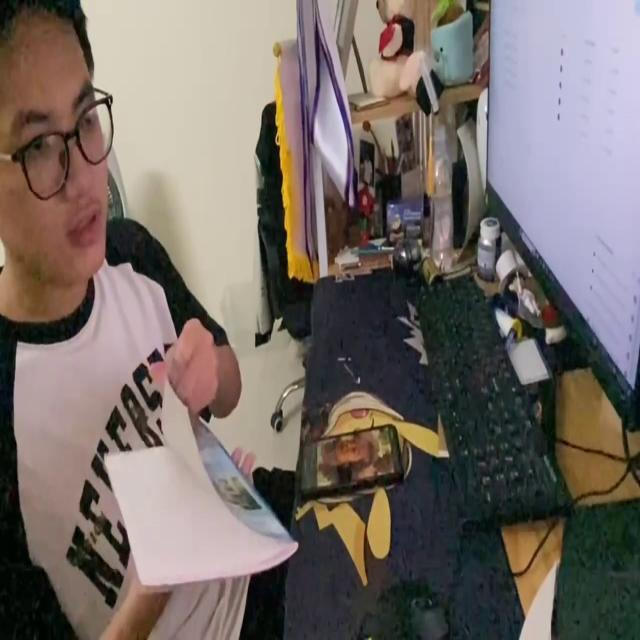book: (104, 376, 302, 589)
laptop: (483, 0, 640, 433)
phone: (296, 420, 406, 496)
student: (0, 0, 294, 640)
